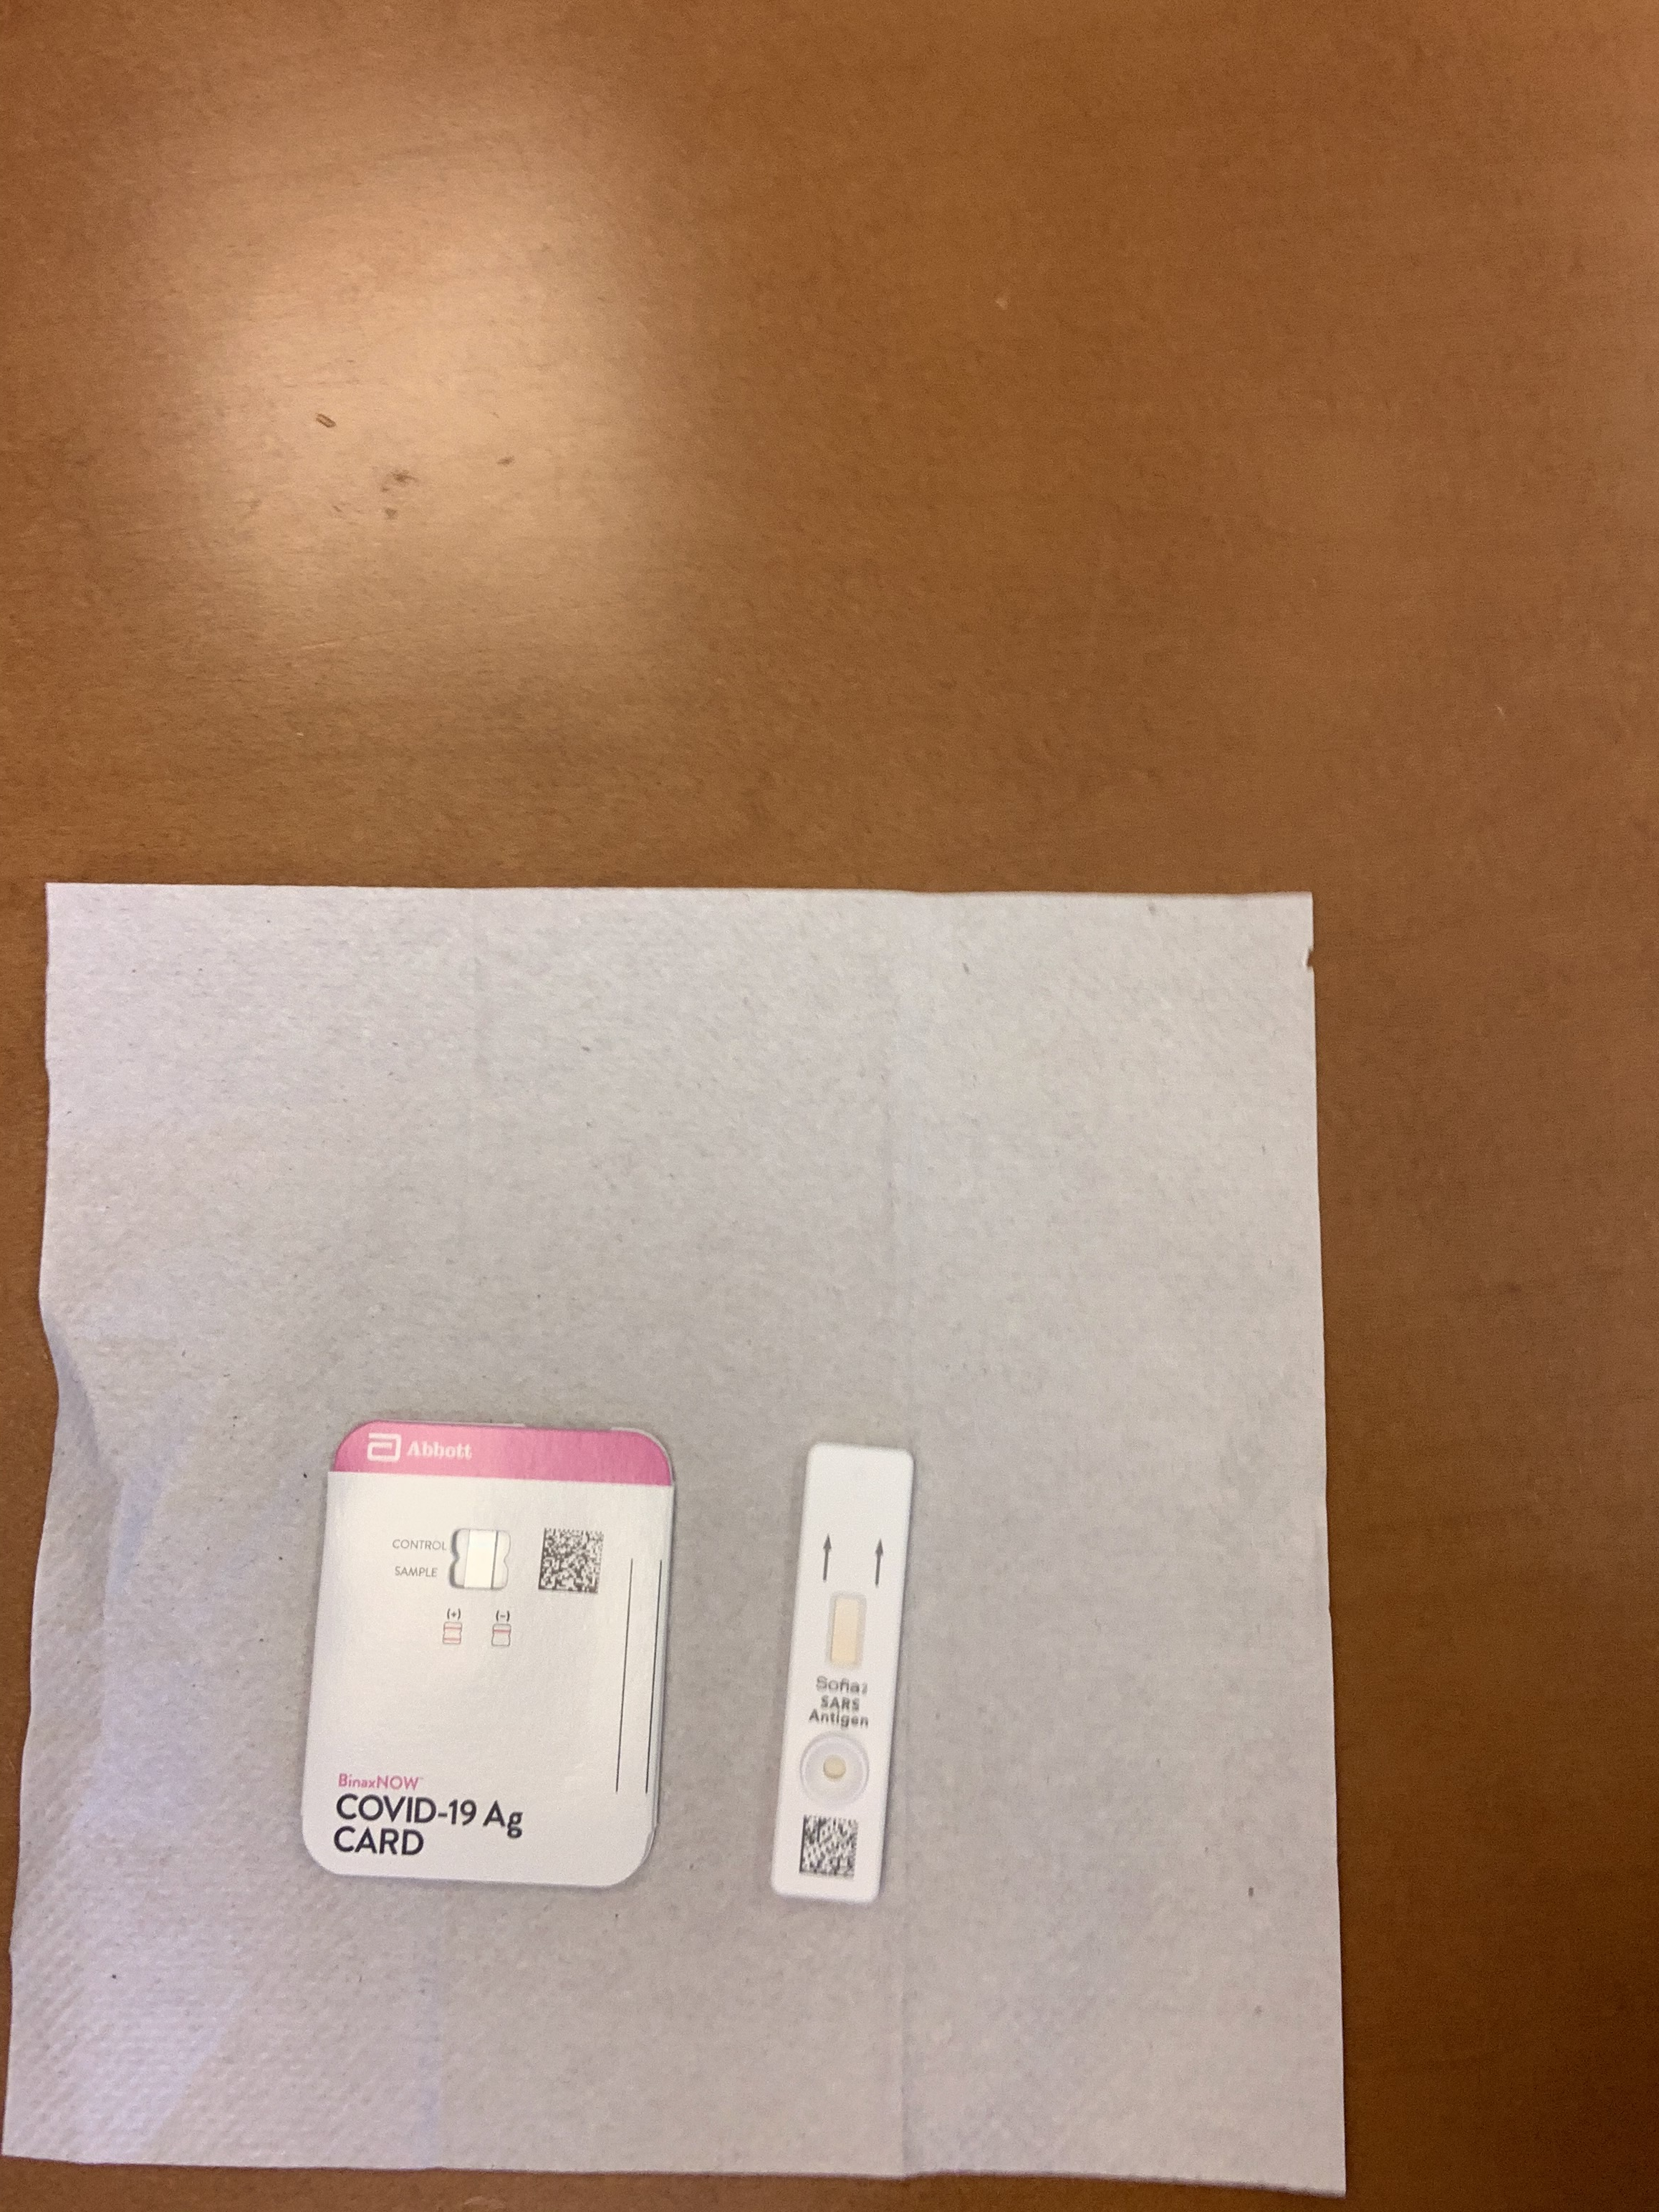binax: (300, 1409, 681, 1890)
quidel: (767, 1440, 925, 1907)
